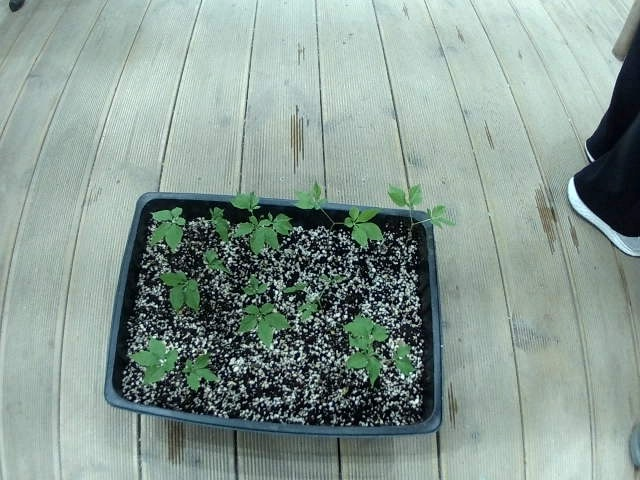수확기: (153, 249, 212, 312), (384, 330, 432, 387), (136, 196, 183, 253), (341, 314, 398, 359), (223, 299, 275, 347), (242, 207, 295, 253), (129, 333, 173, 387), (414, 191, 460, 242), (329, 342, 381, 384), (340, 203, 387, 247), (375, 174, 418, 221), (229, 175, 267, 216), (297, 174, 335, 211), (187, 349, 218, 386), (280, 264, 309, 303), (292, 305, 335, 323), (315, 268, 339, 299), (203, 254, 231, 280), (240, 277, 268, 303), (201, 203, 223, 230)
